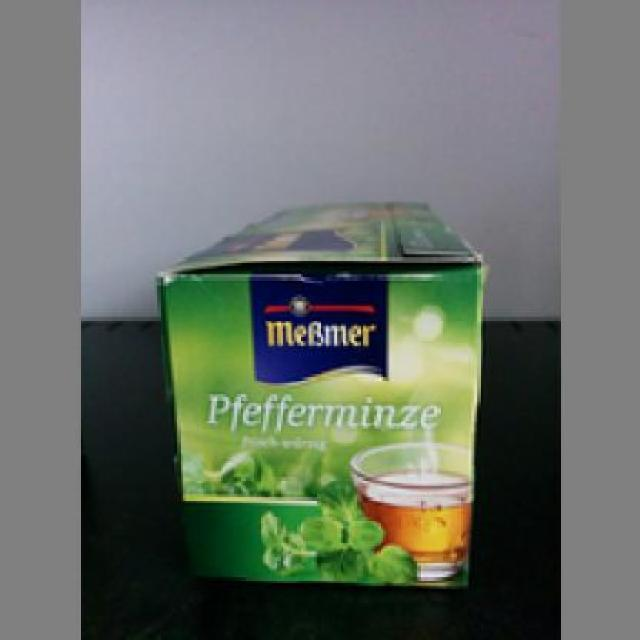Tea: (154, 196, 486, 590)
